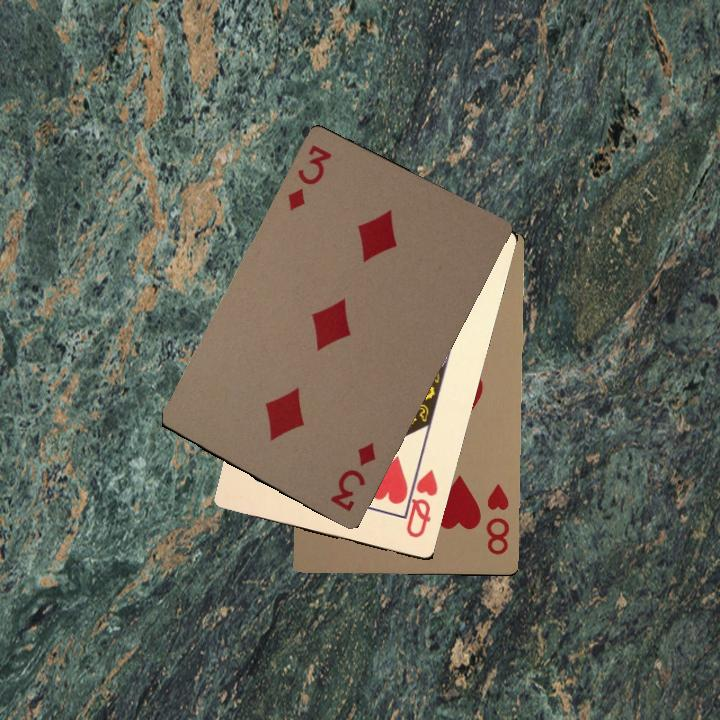3d: (326, 438, 379, 516), (282, 140, 335, 213)
8h: (482, 482, 512, 557)
Qh: (397, 462, 441, 541)
